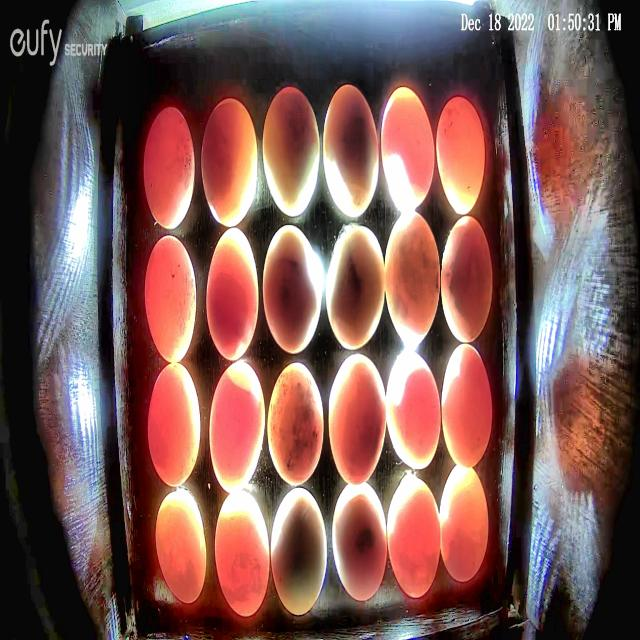DE: (262, 223, 324, 355), (327, 352, 387, 486), (323, 84, 379, 220), (262, 86, 319, 218), (325, 226, 385, 350), (200, 97, 257, 227), (383, 214, 439, 346), (210, 362, 266, 493), (270, 486, 327, 614), (267, 362, 324, 485), (215, 490, 270, 616), (206, 227, 258, 359), (144, 234, 196, 364), (441, 214, 492, 344), (143, 106, 196, 230), (381, 87, 434, 211), (147, 364, 200, 487), (441, 343, 493, 468), (332, 482, 386, 602), (388, 477, 440, 599), (387, 351, 440, 469), (155, 491, 207, 604), (440, 463, 489, 582), (436, 97, 484, 215)
